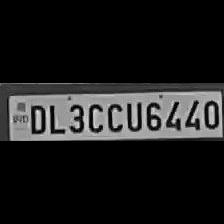0: (201, 97, 219, 129)
3: (65, 100, 85, 134)
4: (162, 97, 182, 131), (180, 96, 200, 130)
6: (142, 98, 162, 132)
C: (84, 100, 104, 134), (104, 100, 124, 132)
D: (26, 102, 46, 134)
L: (46, 100, 64, 134)
U: (122, 99, 142, 131)
